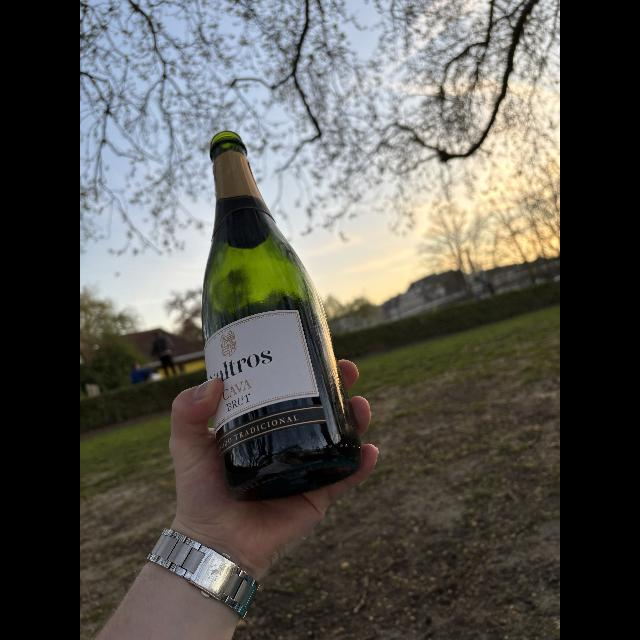Glass: (194, 127, 360, 506)
